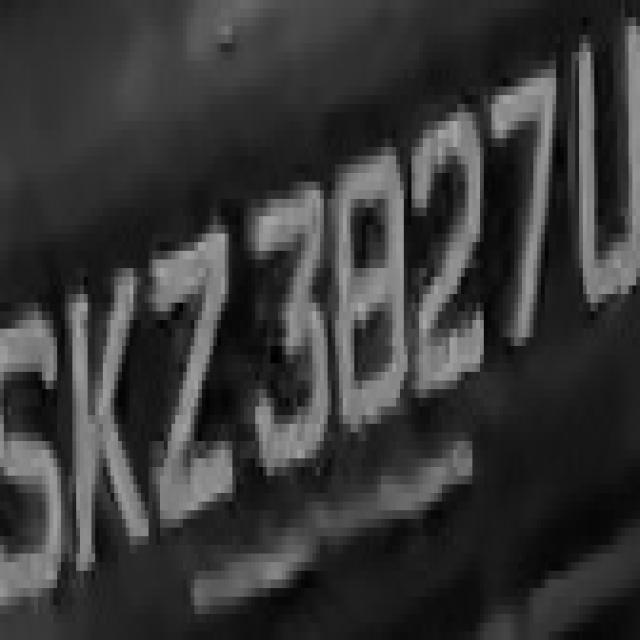2: (400, 95, 491, 433)
3: (236, 156, 335, 484)
7: (476, 35, 560, 415)
8: (316, 138, 415, 458)
K: (57, 234, 145, 606)
S: (4, 259, 61, 597)
U: (560, 18, 636, 338)
Z: (133, 216, 248, 554)
